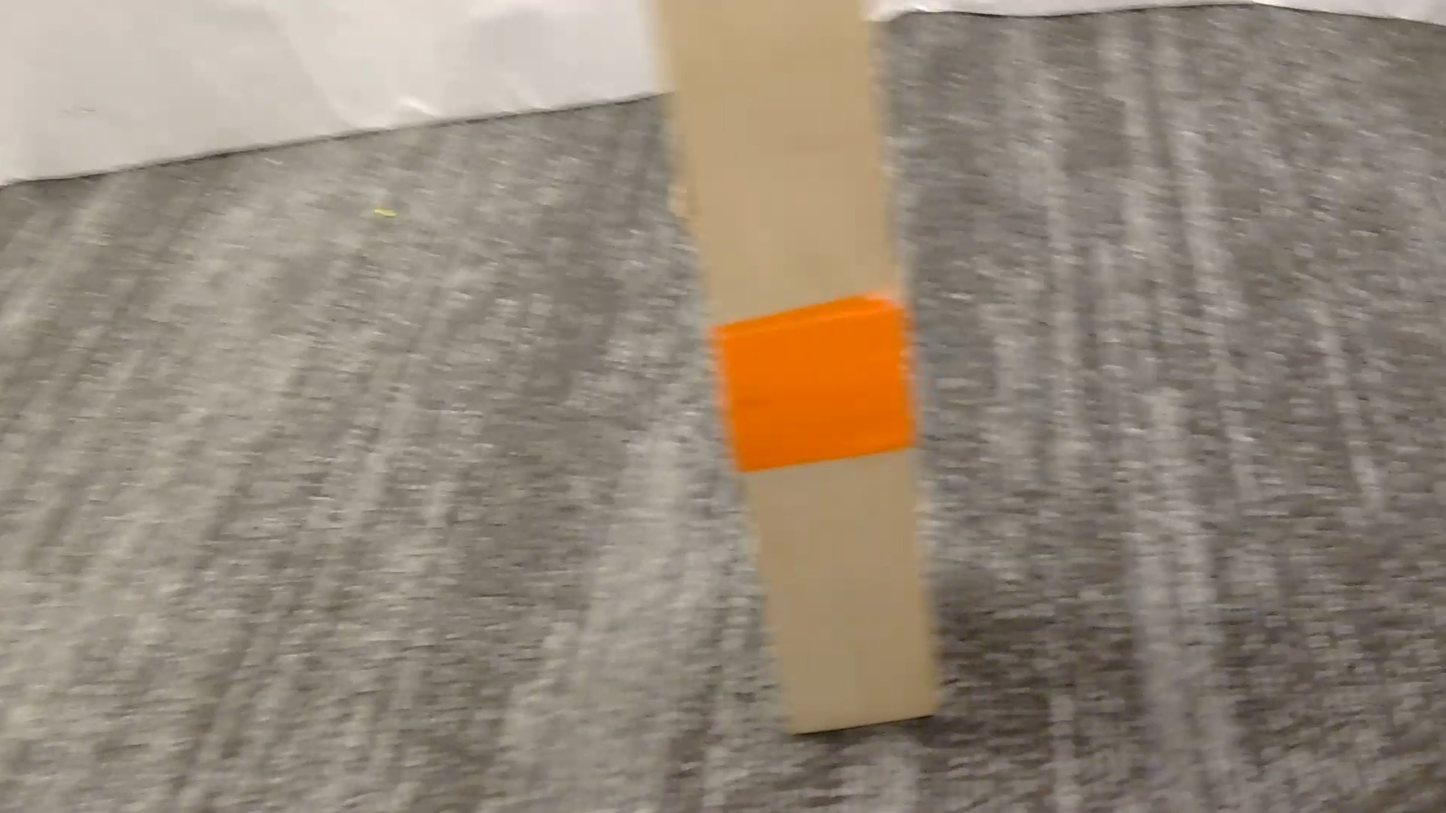Wooden Block: (651, 0, 938, 732)
